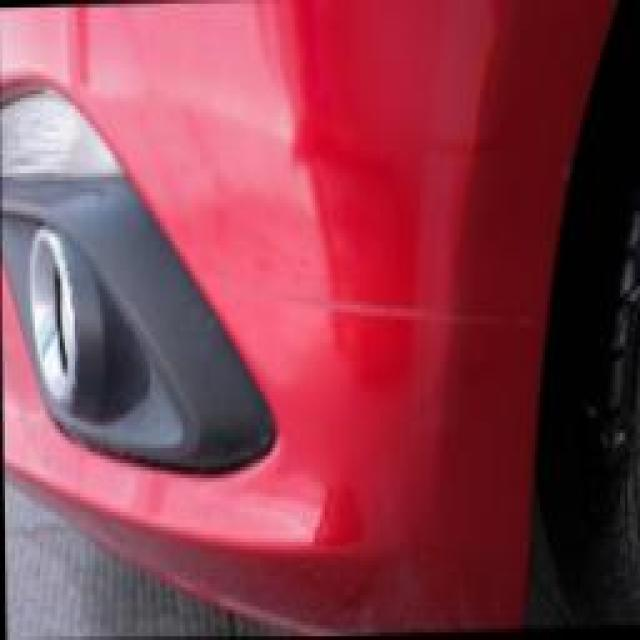Bumper: (198, 222, 541, 428)
